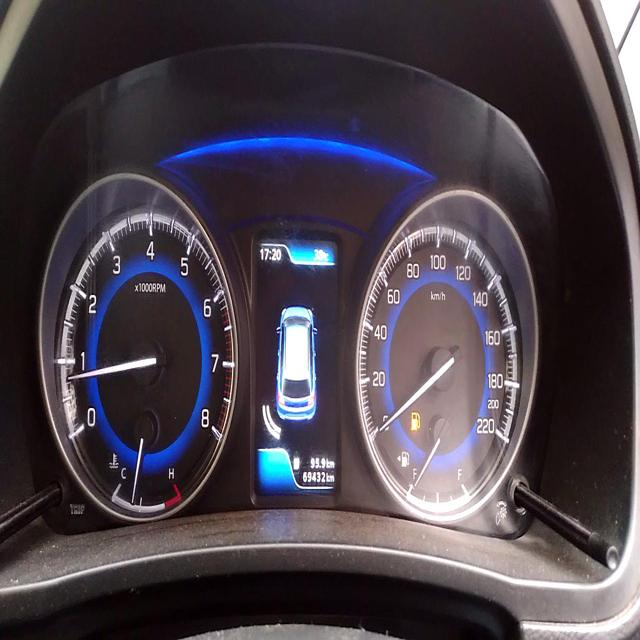odometer: (300, 465, 325, 488)
